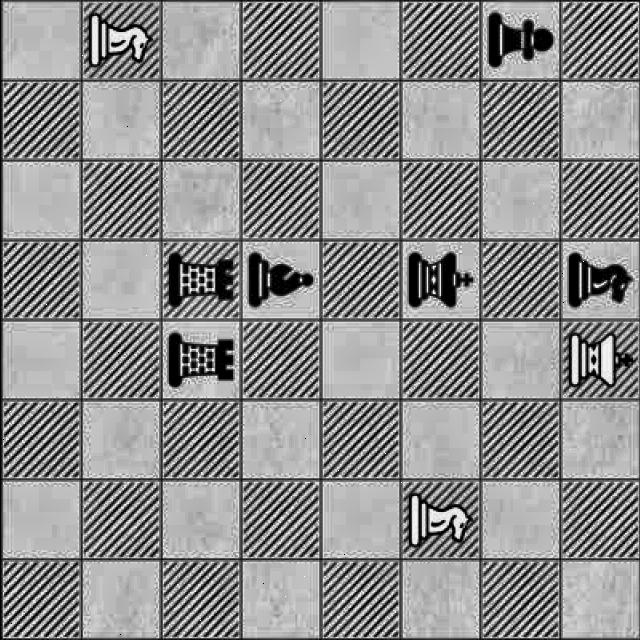Black Knight: (563, 244, 636, 310)
black bishop: (243, 247, 315, 313)
black king: (403, 248, 477, 312)
black pawn: (479, 9, 563, 75)
black rook: (164, 242, 238, 314), (166, 327, 237, 397)
white king: (564, 330, 637, 389)
whiteknight: (404, 487, 476, 558), (89, 8, 159, 75)
